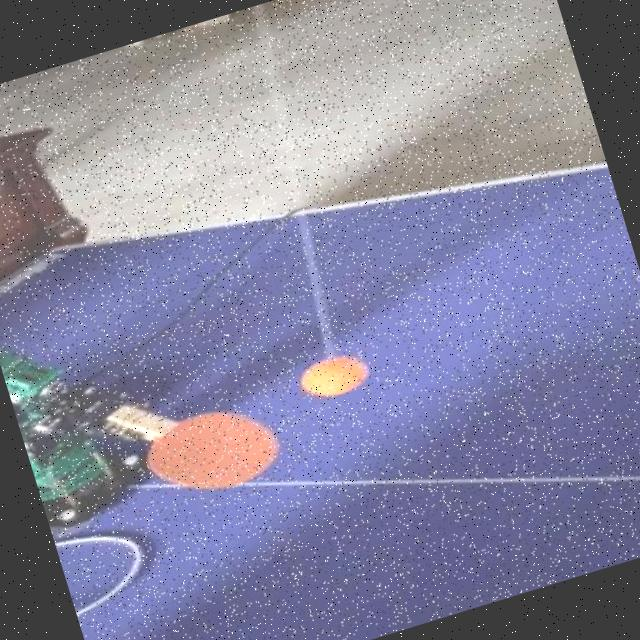ping-pong-ball: (298, 351, 372, 401)
